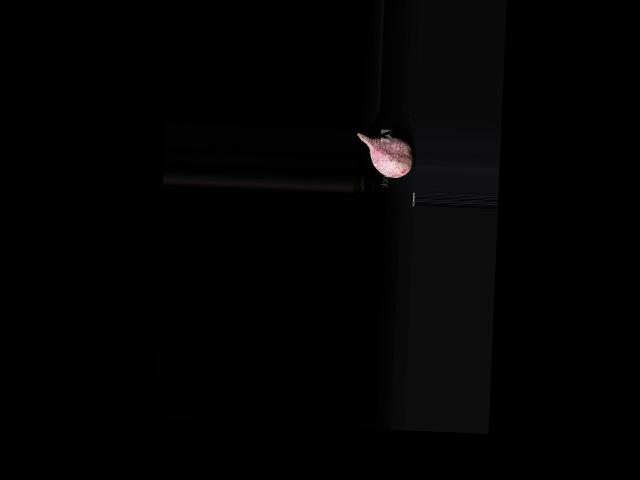beet: (355, 133, 413, 179)
